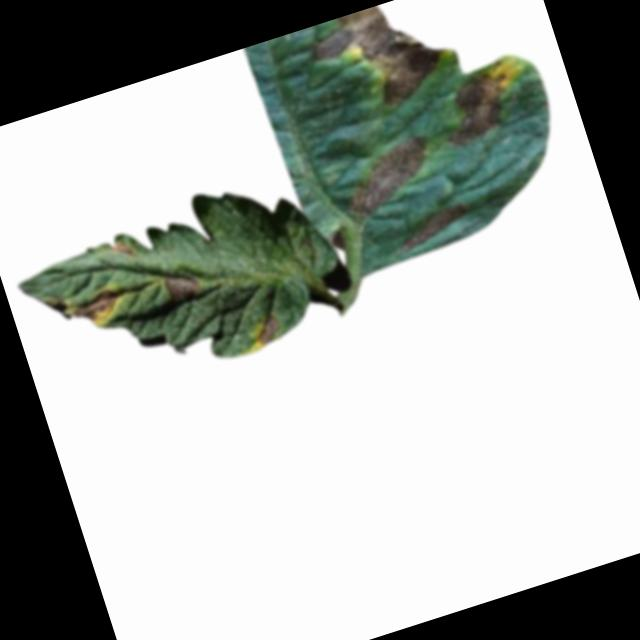Early_blight: (302, 1, 456, 124), (333, 125, 448, 221), (433, 64, 526, 150), (395, 200, 473, 256), (69, 281, 125, 331), (162, 265, 208, 302), (248, 311, 286, 347), (107, 233, 139, 261)
